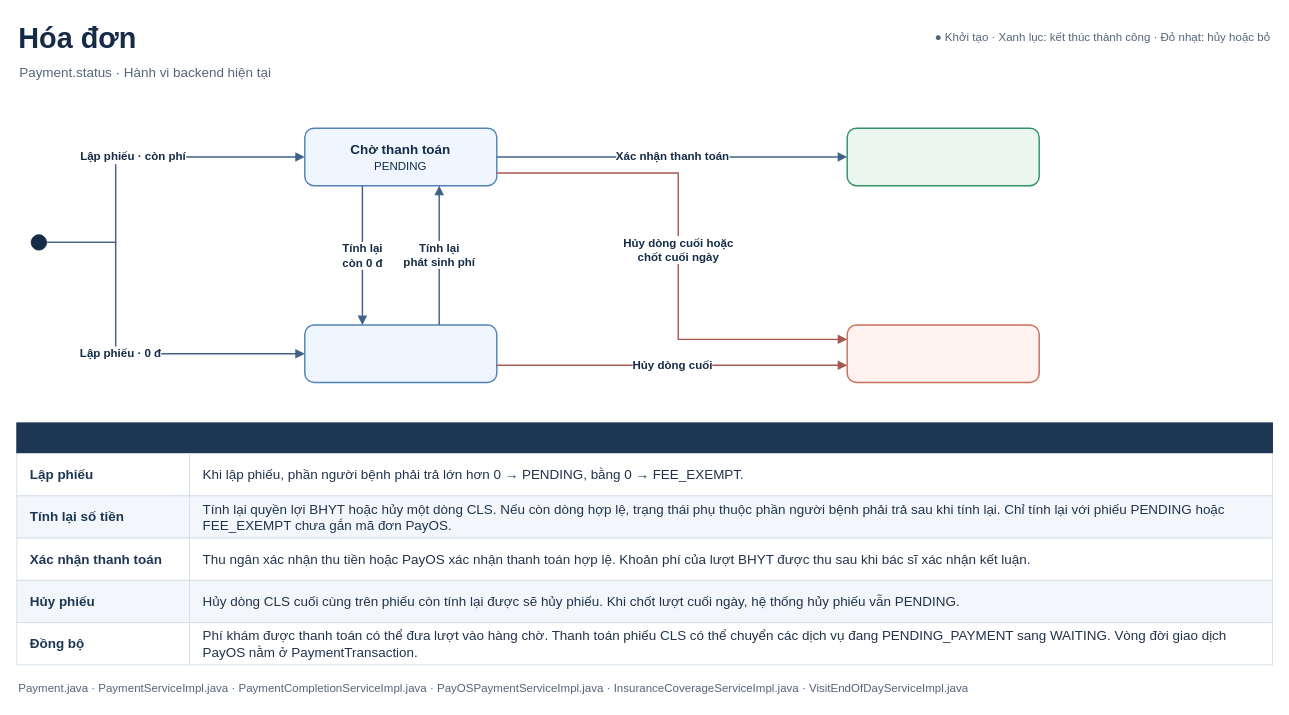
This 1289x715 diagram has some shape labels left out. Each missing label, with the centre of its shape:
Miễn phí FEE_EXEMPT: the point at 400,353
Sự kiện và điều kiện chuyển trạng thái: the point at 644,438
Đã hủy CANCELLED: the point at 942,353
Đã thanh toán PAID: the point at 942,156
